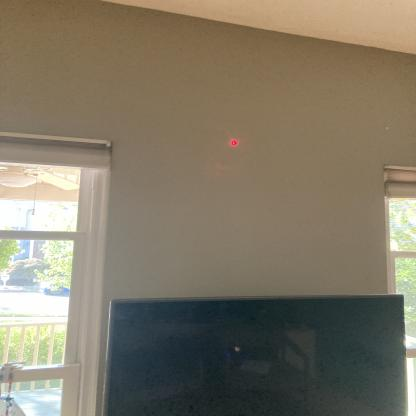target: (228, 135, 244, 150)
